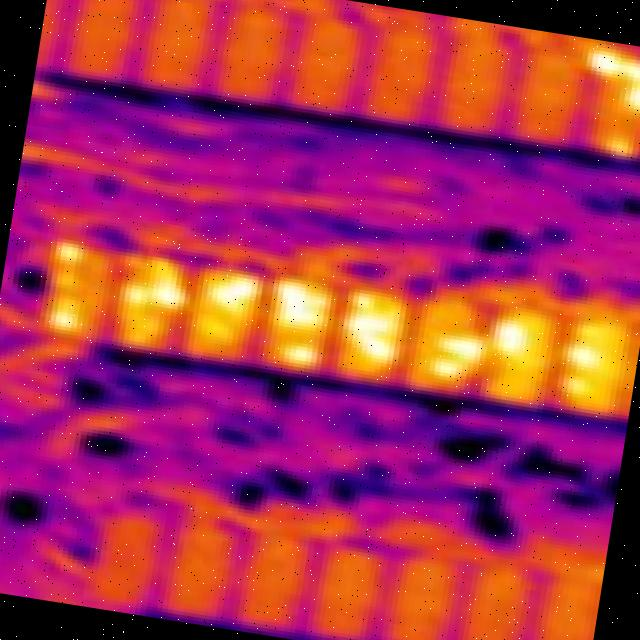Hotspot: (344, 310, 404, 362), (274, 284, 328, 329), (210, 274, 264, 316), (486, 318, 529, 360), (436, 334, 488, 365), (150, 282, 186, 314), (585, 49, 621, 78), (50, 241, 90, 264), (283, 344, 318, 370), (600, 136, 640, 158), (566, 344, 601, 369), (561, 374, 591, 400), (49, 308, 79, 332), (616, 58, 640, 88), (429, 357, 464, 376), (618, 82, 640, 112), (120, 283, 148, 305), (346, 291, 376, 309)
